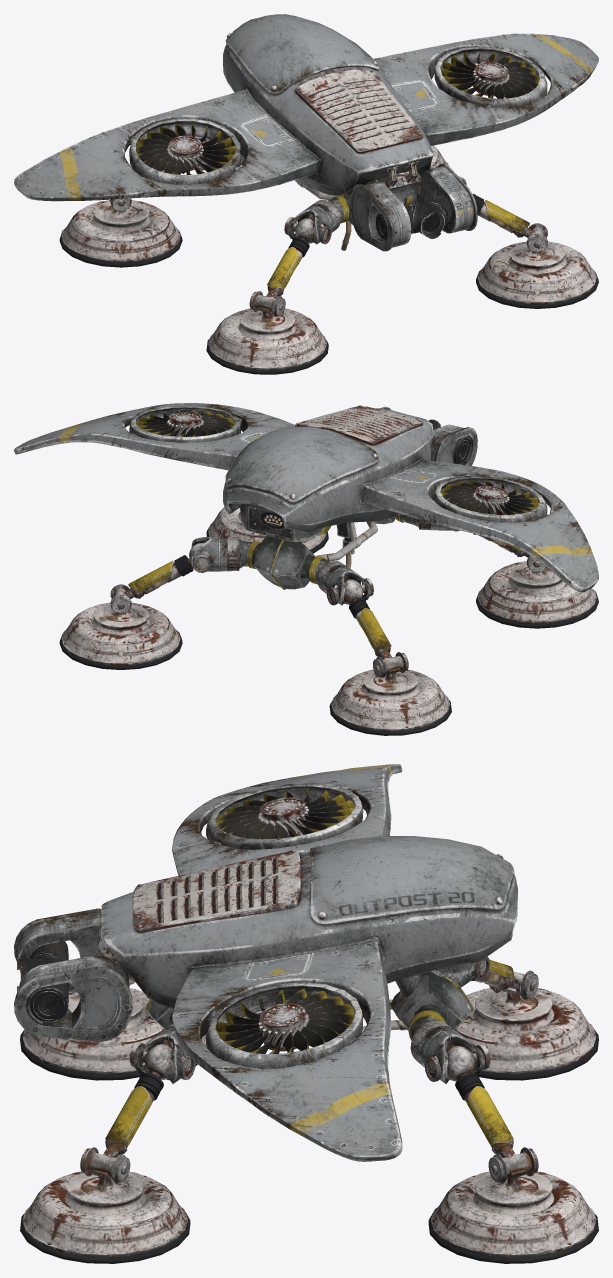
The model's file is welding_drone.glb.
3 views of the same model, one above another, from view 1: azimuth 30°, elevation 25°; view 2: azimuth 150°, elevation 25°; view 3: azimuth 270°, elevation 25° (orthographic). The views are drawn at different scales.
Visible parts, largest first — view 1: MainBody_low, Legs_low, BackPlate_low, Propeller_low, Vent_low, CameraHolder_low, Camera_low; view 2: MainBody_low, Legs_low, BackPlate_low, Propeller_low, Vent_low, LegsMiddlePart_low, CameraHolder_low, LegsConnection_low, Camera_low; view 3: MainBody_low, Legs_low, BackPlate_low, Propeller_low, CameraHolder_low, Vent_low, LegsMiddlePart_low, Camera_low.
Boxes of the visible parts, left/top/right/bottom form: MainBody_low: left=14, top=33, right=598, bottom=201; Legs_low: left=59, top=138, right=598, bottom=374; BackPlate_low: left=225, top=14, right=379, bottom=95; Propeller_low: left=135, top=51, right=539, bottom=174; Vent_low: left=295, top=69, right=423, bottom=153; CameraHolder_low: left=350, top=163, right=477, bottom=251; Camera_low: left=375, top=197, right=451, bottom=240; MainBody_low: left=14, top=403, right=598, bottom=592; Legs_low: left=59, top=501, right=598, bottom=735; BackPlate_low: left=225, top=426, right=379, bottom=502; Propeller_low: left=136, top=410, right=539, bottom=514; Vent_low: left=295, top=406, right=423, bottom=445; LegsMiddlePart_low: left=254, top=517, right=395, bottom=589; CameraHolder_low: left=380, top=406, right=477, bottom=465; LegsConnection_low: left=316, top=521, right=377, bottom=561; Camera_low: left=428, top=419, right=469, bottom=464; MainBody_low: left=101, top=764, right=517, bottom=1161; Legs_low: left=20, top=956, right=598, bottom=1263; BackPlate_low: left=310, top=836, right=514, bottom=924; Propeller_low: left=215, top=789, right=354, bottom=1054; CameraHolder_low: left=14, top=908, right=132, bottom=1041; Vent_low: left=133, top=850, right=301, bottom=932; LegsMiddlePart_low: left=145, top=971, right=473, bottom=1031; Camera_low: left=17, top=941, right=68, bottom=1022.
Size of the model in its own units: 0.8335 by 0.2903 by 0.5297.
1 material, 1 textured.
